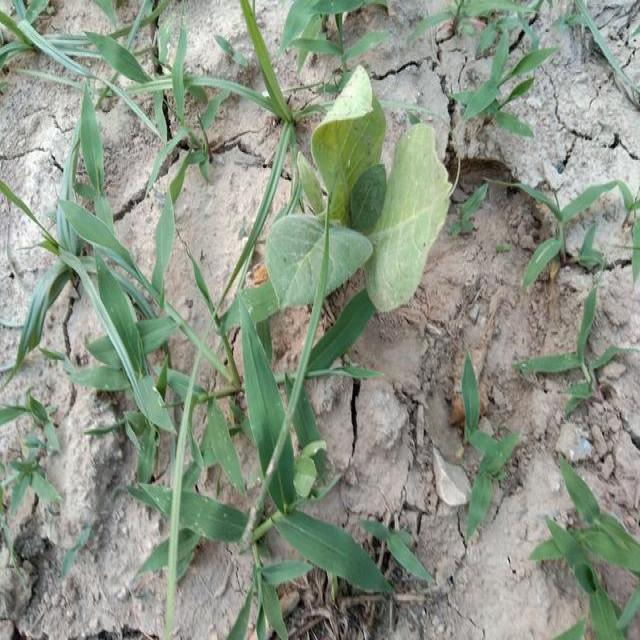crop: (266, 62, 452, 316)
